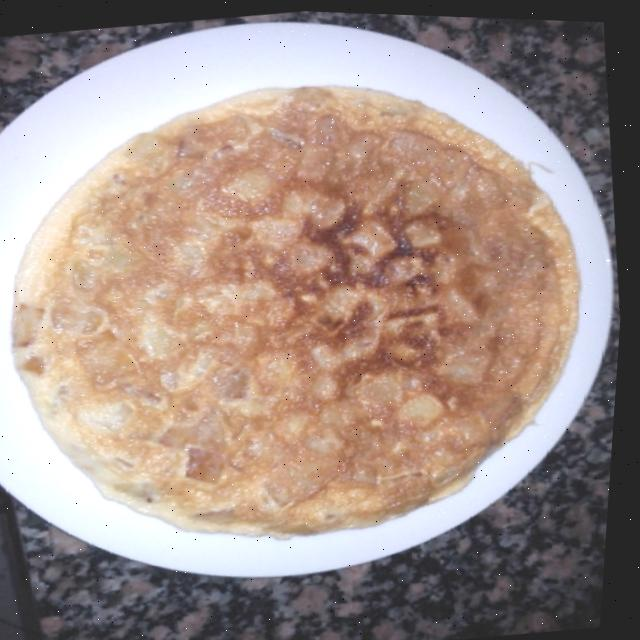面包点心: (0, 44, 589, 565)
